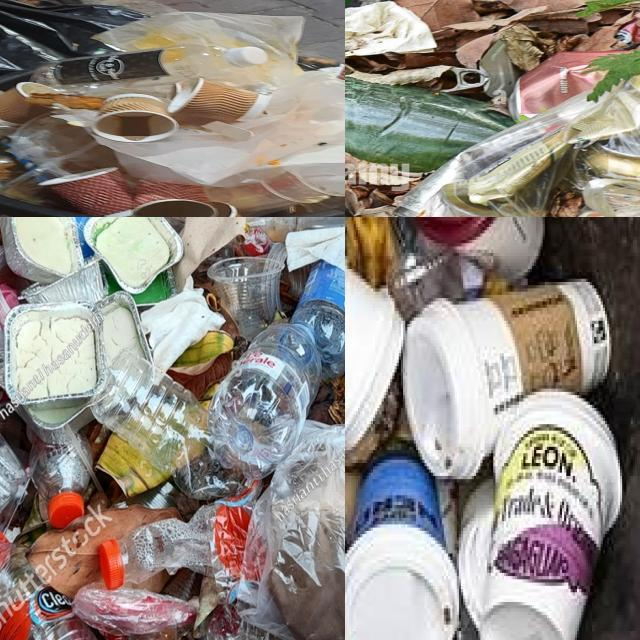Disposable: (387, 217, 486, 321), (9, 115, 117, 177), (205, 169, 331, 216)
Garbage: (345, 217, 639, 640), (345, 0, 640, 217)
Plastic: (0, 141, 27, 188), (128, 207, 131, 209)
Plastic_Bag: (395, 76, 640, 217), (96, 12, 306, 83), (261, 72, 345, 145)
Plastic_bottle: (345, 76, 512, 171), (28, 44, 267, 95)
